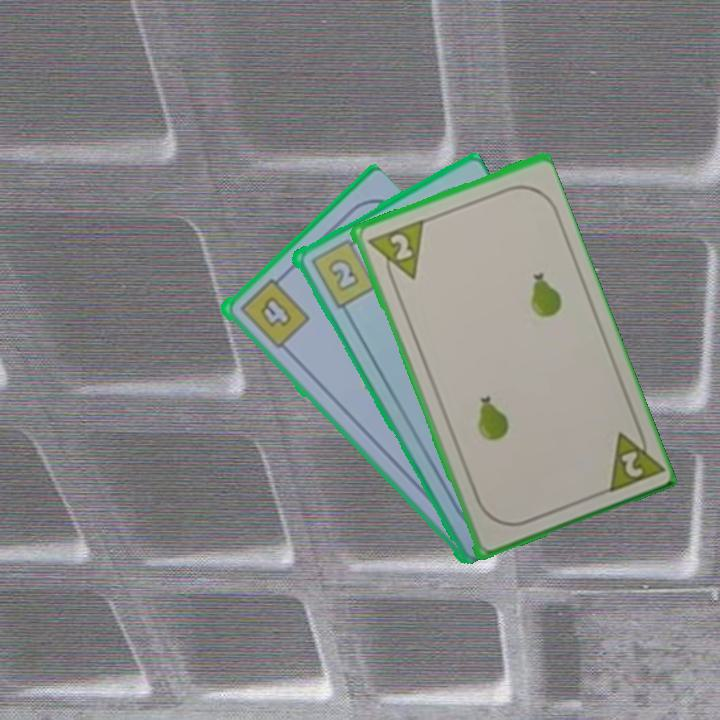2b: (306, 233, 379, 311)
2p: (600, 419, 663, 497), (363, 216, 426, 289)
4b: (235, 271, 312, 351)
